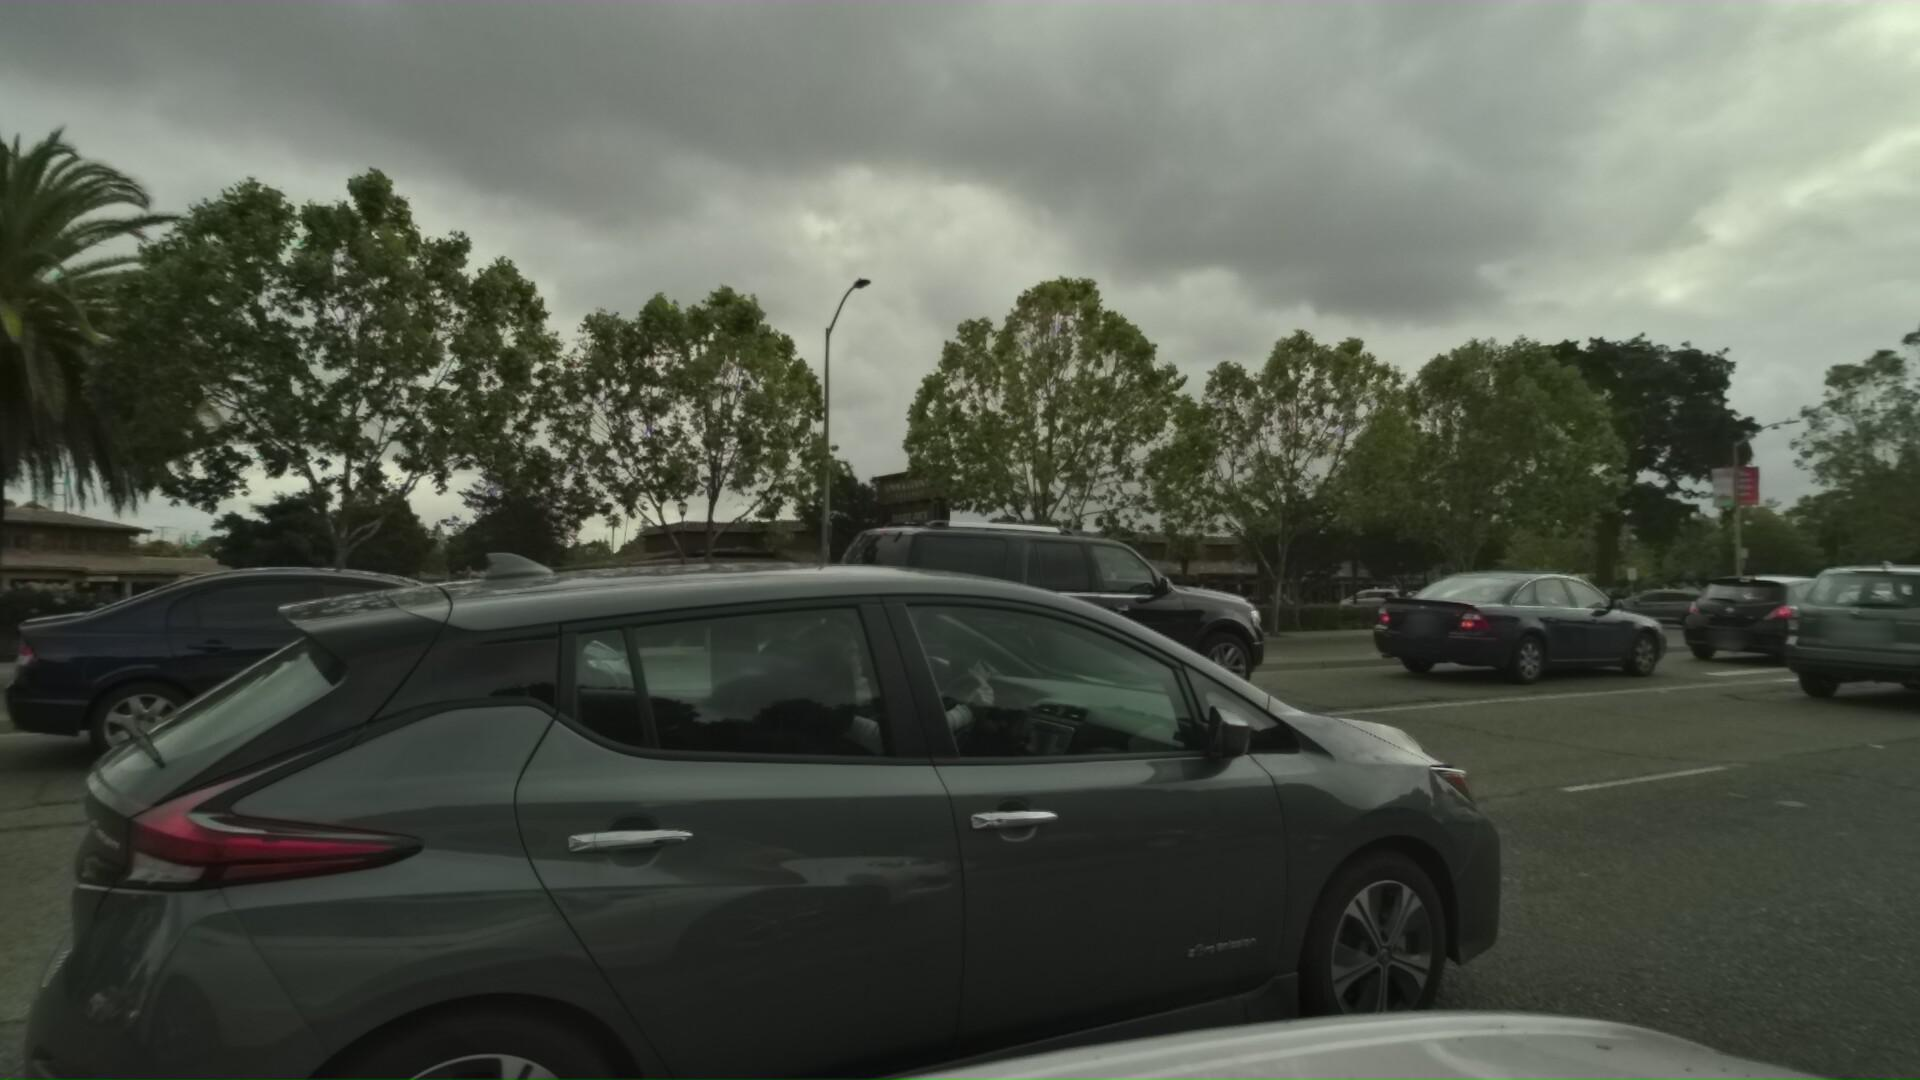car: (764, 531, 1280, 758), (1336, 562, 1677, 694), (26, 568, 375, 684), (1764, 558, 1920, 723), (1658, 566, 1898, 669), (745, 587, 855, 646), (1841, 570, 1920, 651), (1581, 584, 1697, 630)
